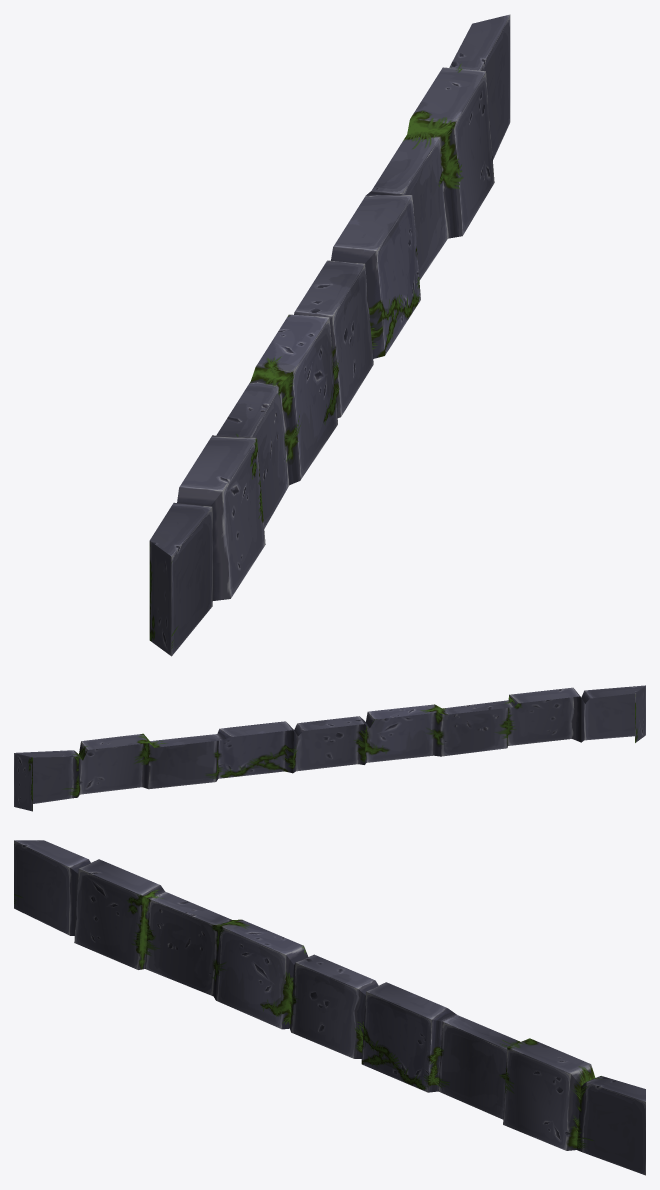
Rendered from MOD_WallTrim_01_O_angle.fbx.
3 renders of one model, top to bottom at view 1: azimuth 30°, elevation 25°; view 2: azimuth 150°, elevation 25°; view 3: azimuth 270°, elevation 25°, orthographic. The views are drawn at different scales.
Parts seen in each view (by area): view 1: MOD_WallTrim_01_O_angle; view 2: MOD_WallTrim_01_O_angle; view 3: MOD_WallTrim_01_O_angle.
Part boxes in pixels (x1,y1,x2,y2): MOD_WallTrim_01_O_angle: [149, 14, 510, 656]; MOD_WallTrim_01_O_angle: [14, 685, 645, 811]; MOD_WallTrim_01_O_angle: [14, 840, 645, 1175].
Size of the model in its own units: 420 by 55.4 by 420.
